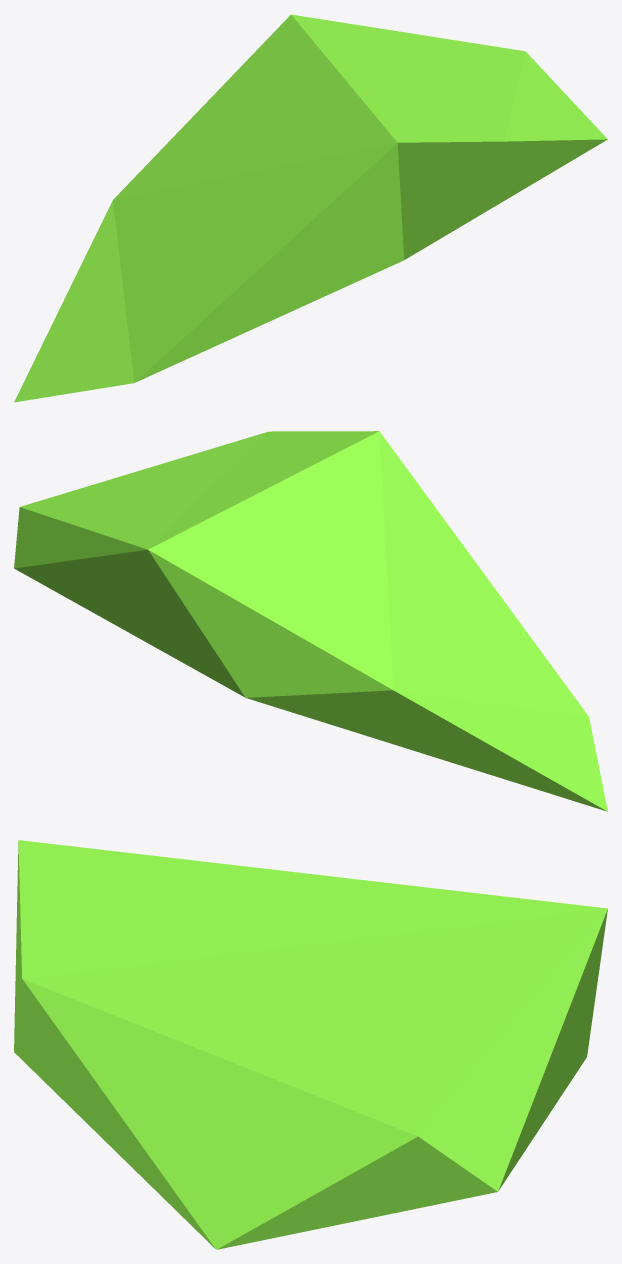
Rendered from leaf1.fbx.
The picture shows the model from 3 angles, top to bottom: view 1: azimuth 30°, elevation 25°; view 2: azimuth 150°, elevation 25°; view 3: azimuth 270°, elevation 25°; orthographic projection. The views are drawn at different scales.
Visible parts, largest first — view 1: Plant3; view 2: Plant3; view 3: Plant3.
Boxes of the visible parts, x1=… form: Plant3: x1=14, y1=14, x2=607, y2=402; Plant3: x1=14, y1=431, x2=607, y2=811; Plant3: x1=14, y1=840, x2=607, y2=1249.
Bounding box in the file's own units: 25.07 × 10.21 × 12.83.
